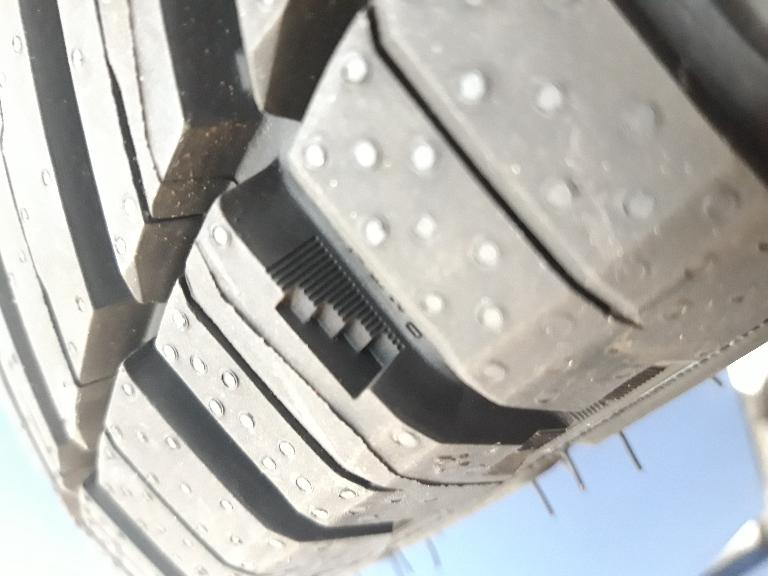temoin:100: (258, 229, 414, 406)
